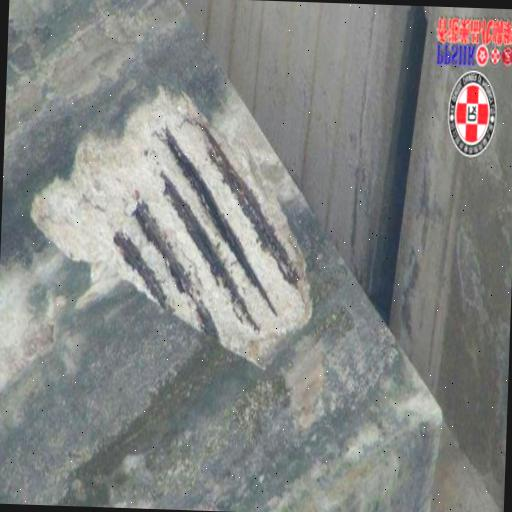spalling: (29, 87, 312, 365)
